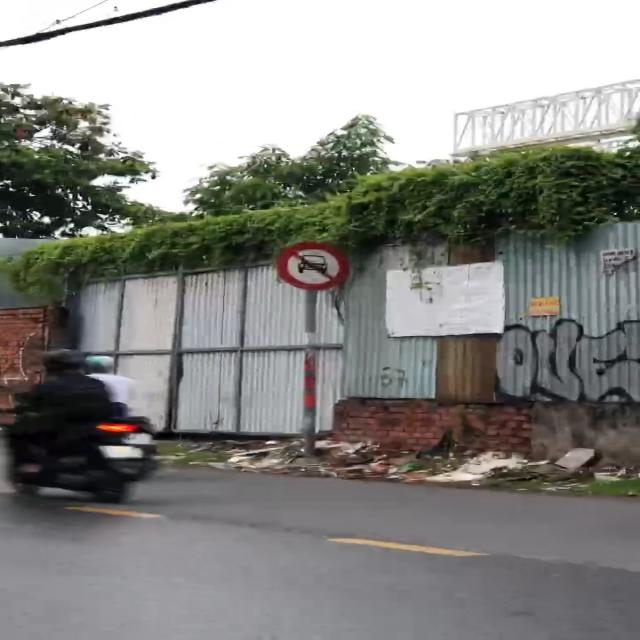Bien bao cam xe oto: (273, 238, 353, 291)
